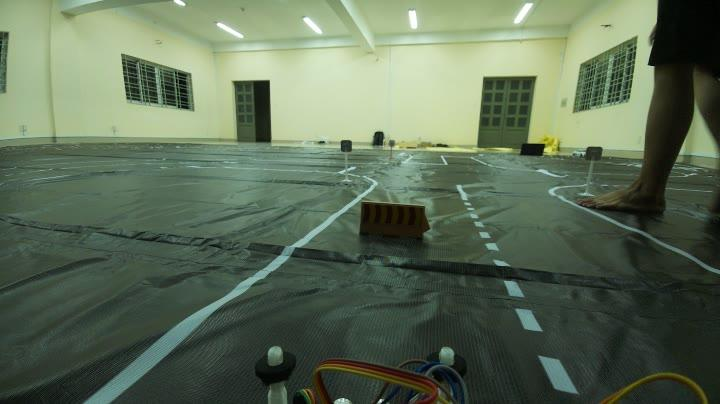roadblock: (350, 192, 441, 252)
